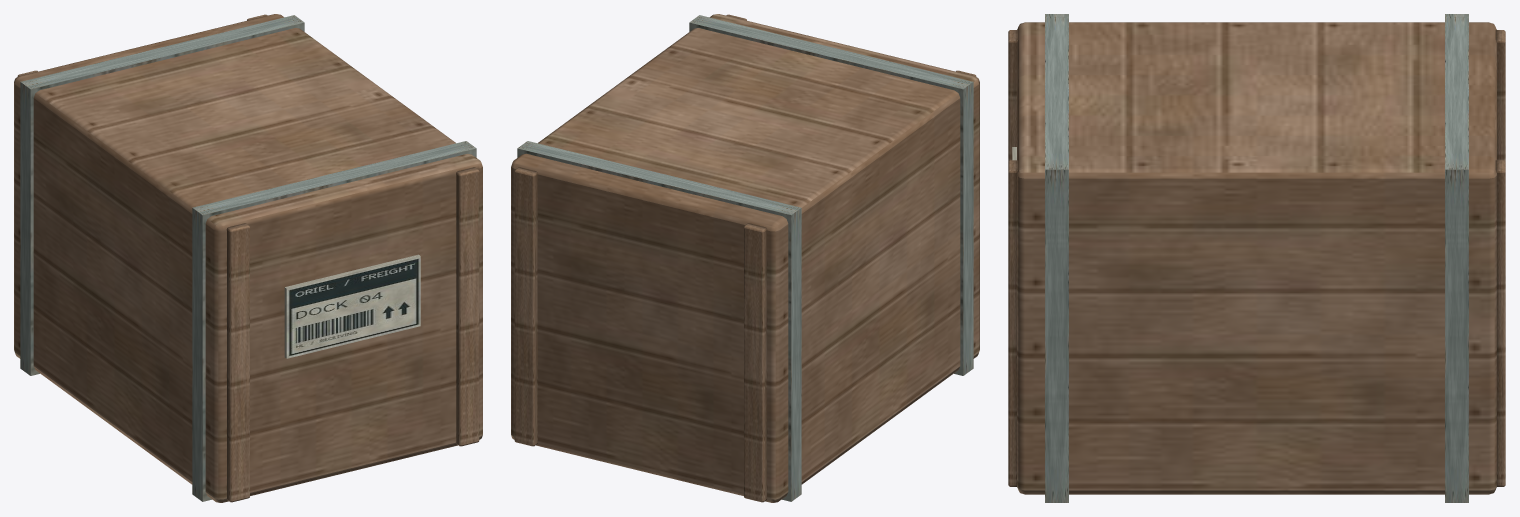
The model's file is crate_long.glb.
3 renders of one model, left to right at view 1: azimuth 30°, elevation 25°; view 2: azimuth 150°, elevation 25°; view 3: azimuth 270°, elevation 25°, orthographic. The views are drawn at different scales.
Parts seen in each view (by area): view 1: CrateLong; view 2: CrateLong; view 3: CrateLong.
Boxes of the visible parts, x1,y1,x2,y2 form: CrateLong: (14,14,482,502); CrateLong: (511,14,979,502); CrateLong: (1008,14,1505,502).
Bounding box in the file's own units: 0.92 × 0.92 × 1.24.
Materials: 1 (1 with a texture image).
